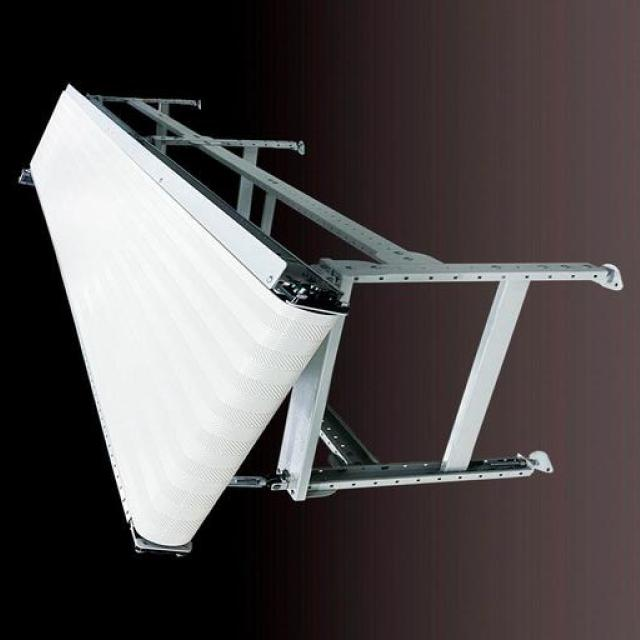conveyor: (30, 83, 342, 553)
